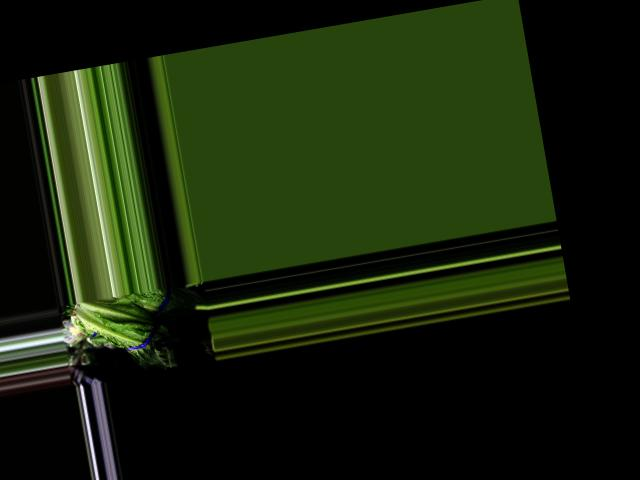lettuce: (79, 286, 182, 376)
